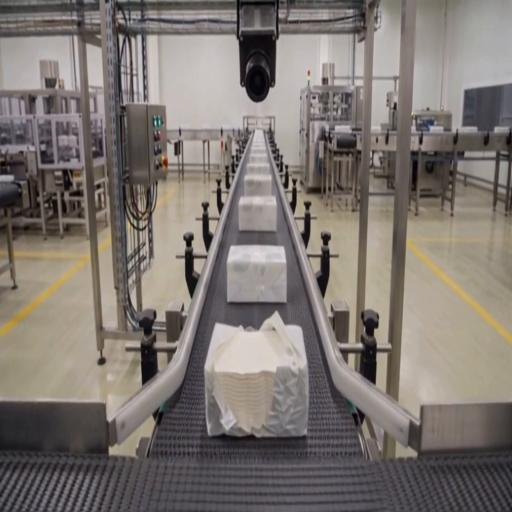defective: (205, 314, 308, 438)
good: (227, 244, 287, 304), (237, 196, 279, 234), (243, 172, 273, 196), (246, 159, 270, 175), (247, 146, 270, 162), (249, 132, 268, 147)
